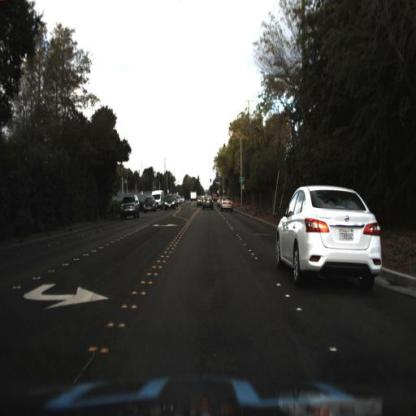car: (270, 183, 391, 298), (116, 193, 142, 224), (140, 194, 159, 218), (220, 193, 237, 216), (151, 189, 165, 212), (200, 194, 215, 213), (164, 193, 179, 211)
